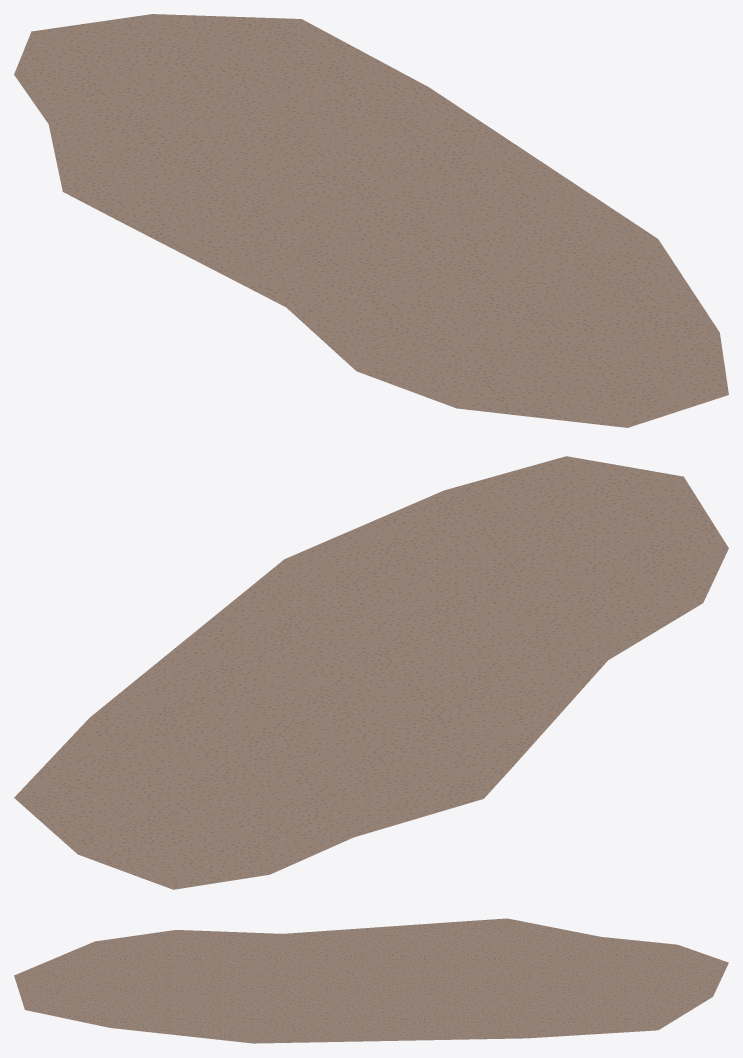
File: kd_stage_135b75_3_5.glb
The picture shows the model from 3 angles, top to bottom: view 1: azimuth 30°, elevation 25°; view 2: azimuth 150°, elevation 25°; view 3: azimuth 270°, elevation 25°; orthographic projection. The views are drawn at different scales.
Parts seen in each view (by area): view 1: kd_stage_135b75_3_5; view 2: kd_stage_135b75_3_5; view 3: kd_stage_135b75_3_5.
Boxes of the visible parts, <box> form: kd_stage_135b75_3_5: <box>14,14,728,427</box>; kd_stage_135b75_3_5: <box>14,456,728,889</box>; kd_stage_135b75_3_5: <box>14,918,728,1043</box>.
Size of the model in its own units: 0.4883 by 3.58e-07 by 1.18.
Materials: 1 (1 with a texture image).
